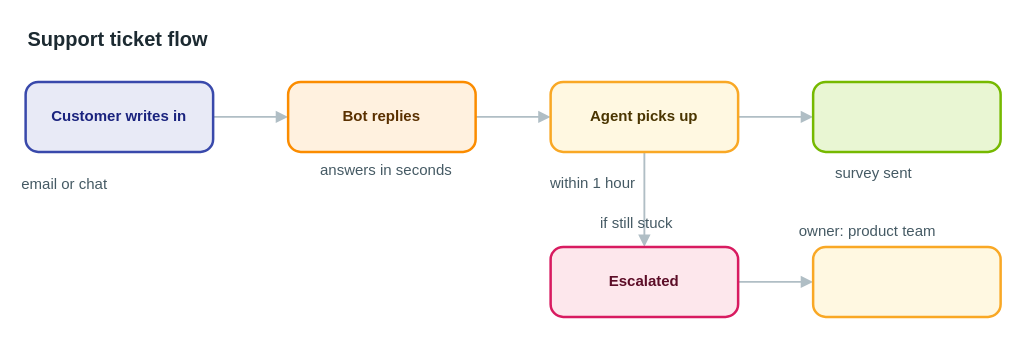
The diagram is 1023 pixels wide and 339 high, and some of its shapes have lost their labels. The centre of each missing label's shape, as x and y in pixels:
Engineer: the point at 906,281
Fixed: the point at 906,116
